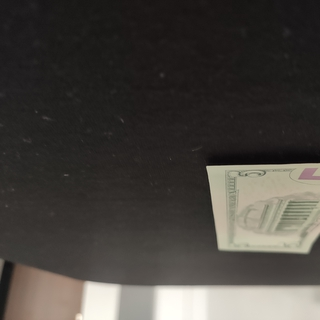5USDBack: (204, 159, 320, 255)
